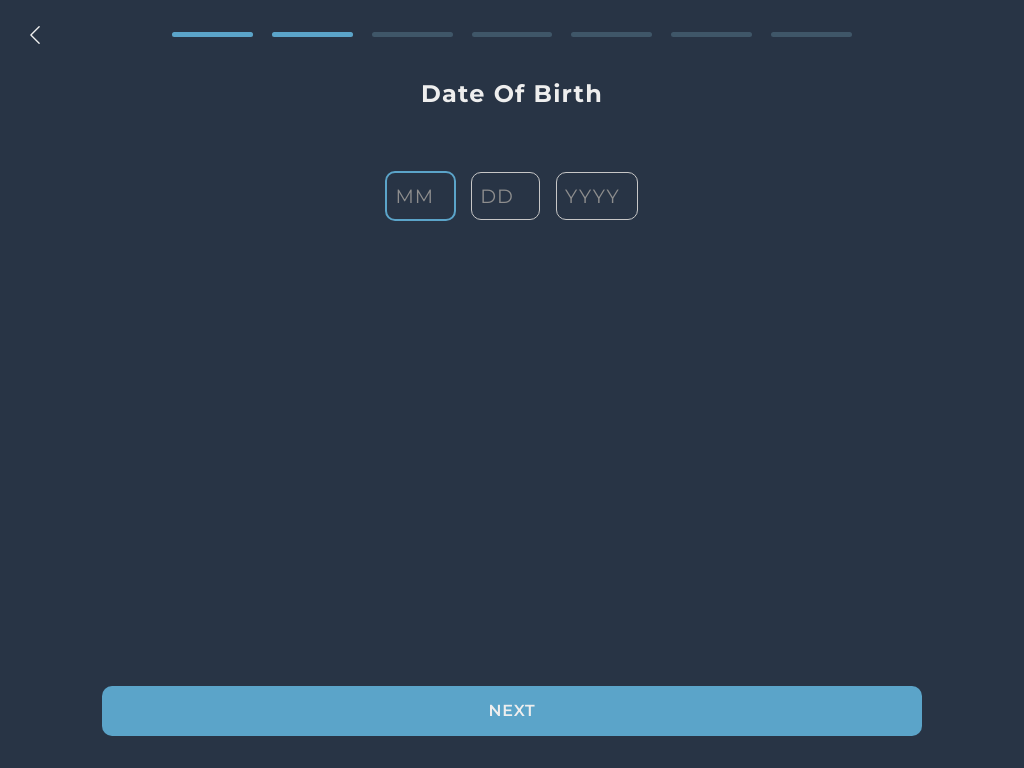
Birthday › Birthday input testing › Should not allow month input to have a value over 12
In the field with test id "month" showing "MM": (421, 196) x1=386 y1=171 x2=456 y2=221, type "13"
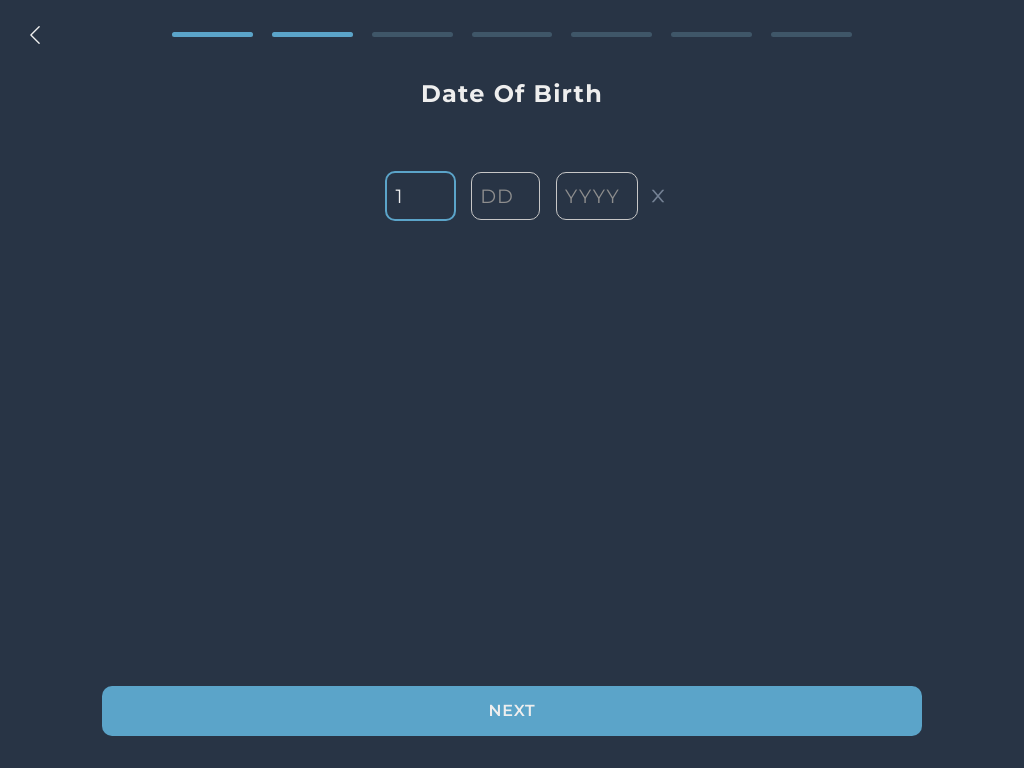
Expected: the field with test id "month" holds "1", x1=386 y1=171 x2=456 y2=221
Expected: the field with test id "month" does not hold "13", x1=386 y1=171 x2=456 y2=221
